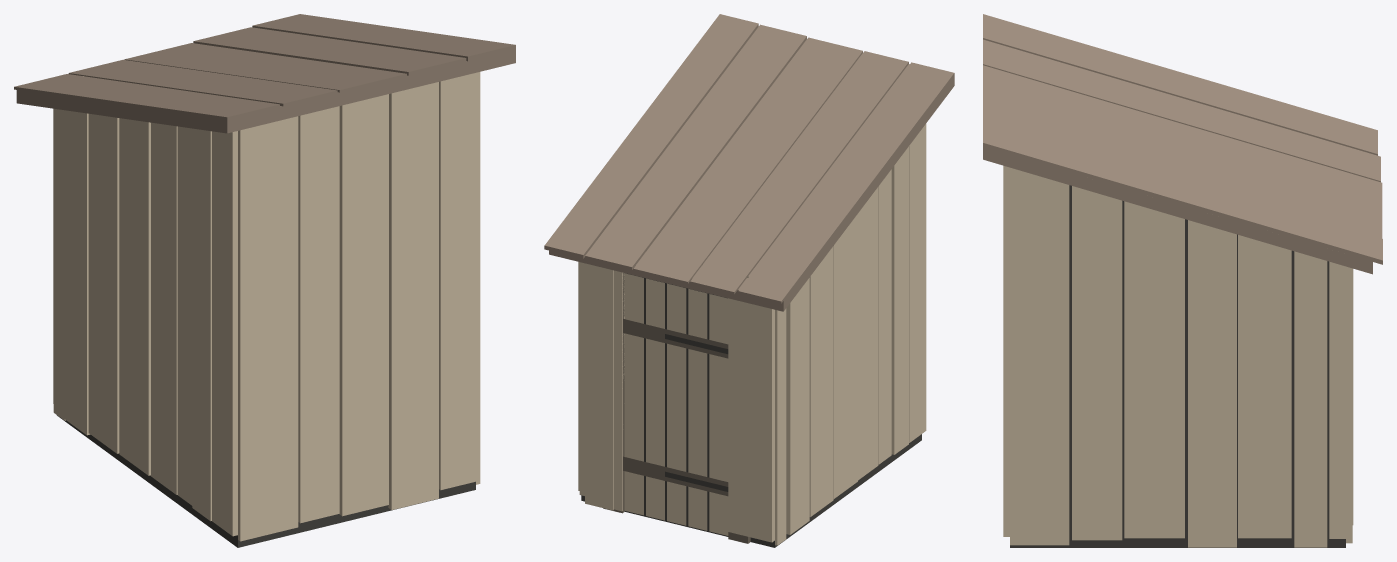
File: recon_1835_blk_lake_market_a3_07__inferred_1835.glb
The picture shows the model from 3 angles, left to right: view 1: azimuth 30°, elevation 25°; view 2: azimuth 150°, elevation 25°; view 3: azimuth 270°, elevation 25°; orthographic projection. The views are drawn at different scales.
Visible parts, largest first — view 1: recon_1835_blk_lake_market_a3_07__inferred_1835; view 2: recon_1835_blk_lake_market_a3_07__inferred_1835; view 3: recon_1835_blk_lake_market_a3_07__inferred_1835.
Boxes of the visible parts, x1=… form: recon_1835_blk_lake_market_a3_07__inferred_1835: x1=14, y1=14, x2=515, y2=547; recon_1835_blk_lake_market_a3_07__inferred_1835: x1=544, y1=14, x2=954, y2=547; recon_1835_blk_lake_market_a3_07__inferred_1835: x1=983, y1=14, x2=1382, y2=547.
Size of the model in its own units: 1.91 by 2.84 by 2.47.
